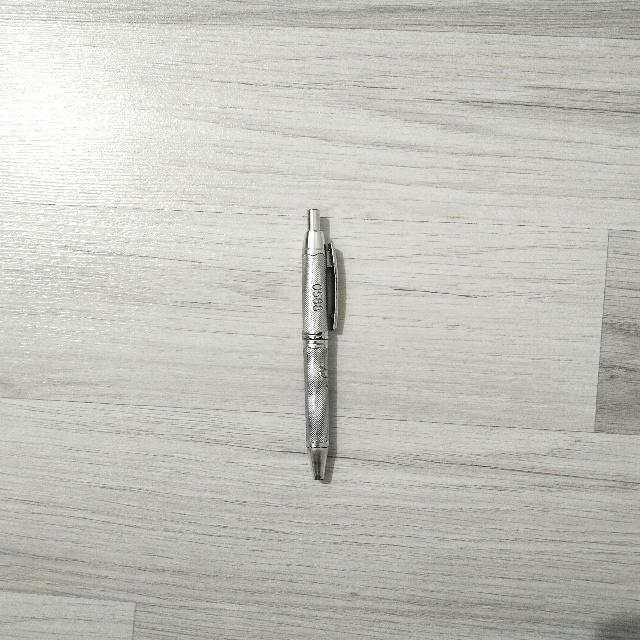signature pen: (302, 209, 336, 479)
